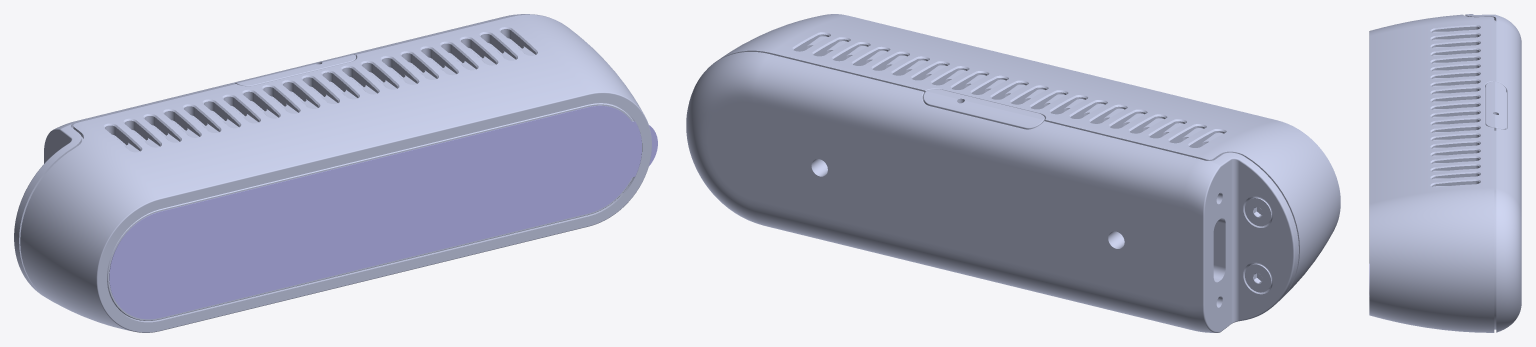
File: 06_realsense_d435i.obj
The picture shows the model from 3 angles, left to right: view 1: azimuth 30°, elevation 25°; view 2: azimuth 150°, elevation 25°; view 3: azimuth 270°, elevation 25°; orthographic projection. The views are drawn at different scales.
Parts seen in each view (by area): view 1: Body1, Body2; view 2: Body1; view 3: Body1.
Boxes of the visible parts, bbox=[...] form: Body1: bbox=[14, 14, 651, 332]; Body2: bbox=[109, 105, 657, 319]; Body1: bbox=[686, 14, 1340, 332]; Body1: bbox=[1369, 14, 1521, 332].
Bounding box in the file's own units: 8.99 × 2.5 × 2.51.
